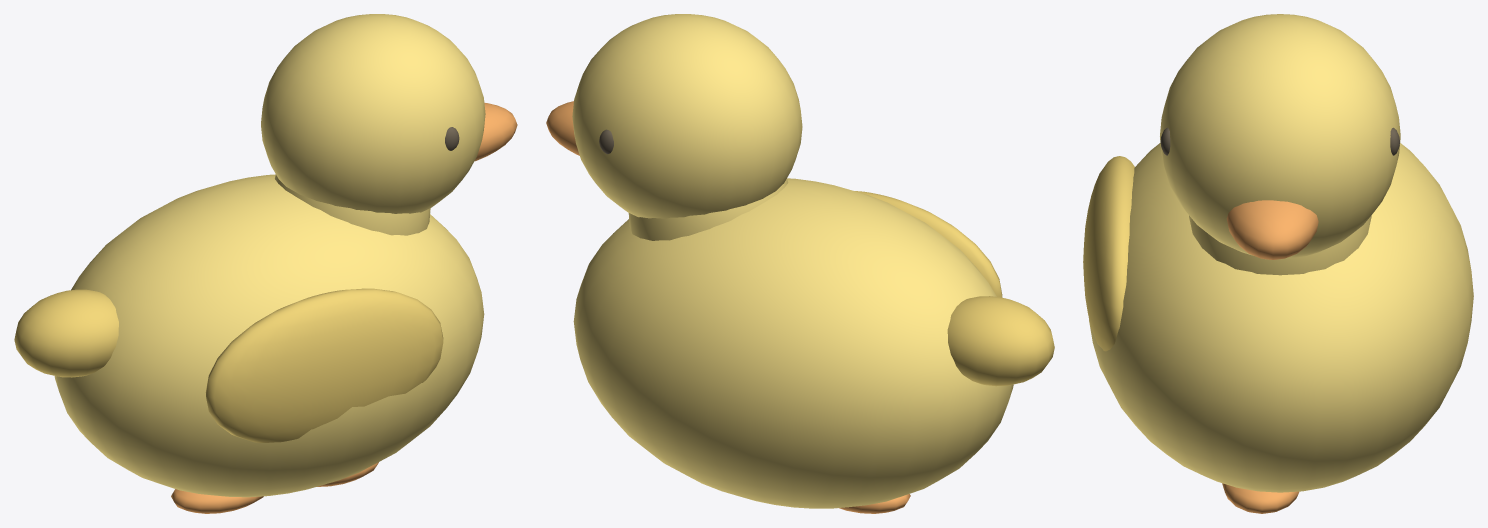
File: duck.glb
3 views of the same model, side by side, from view 1: azimuth 30°, elevation 25°; view 2: azimuth 150°, elevation 25°; view 3: azimuth 270°, elevation 25° (orthographic). The views are drawn at different scales.
Visible parts, largest first — view 1: Pondside Duck; view 2: Pondside Duck; view 3: Pondside Duck.
Part boxes in pixels (box(x1,y1,x2,y2)): Pondside Duck: box(14, 14, 517, 513); Pondside Duck: box(546, 14, 1054, 513); Pondside Duck: box(1083, 14, 1473, 513).
Bounding box in the file's own units: 1.78 × 1.51 × 1.07.
